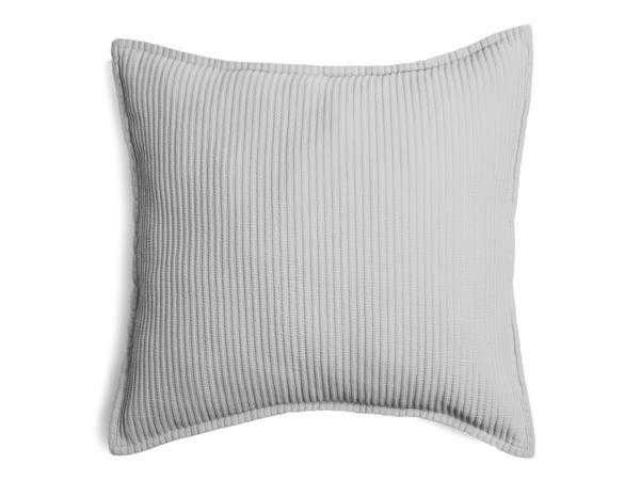pillow: (106, 23, 536, 459)
